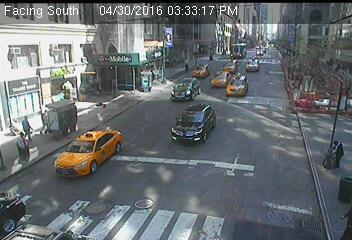neg: (186, 81, 208, 110), (320, 104, 337, 127)
pos: (325, 137, 350, 169)
